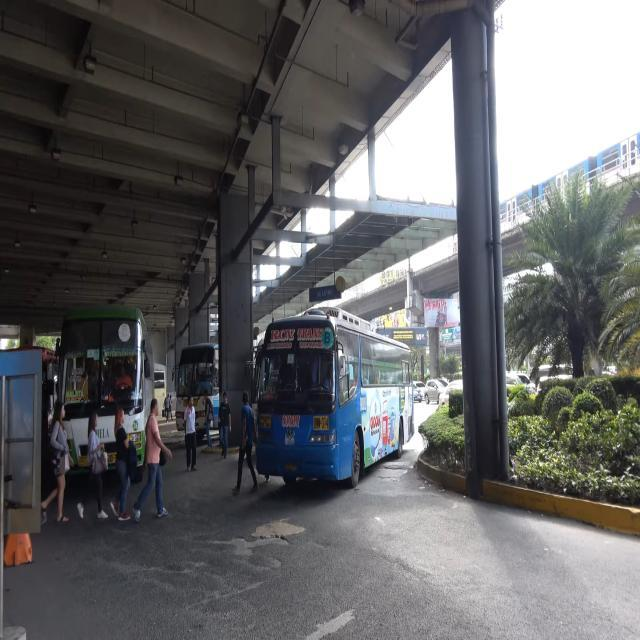bus: (254, 306, 415, 488), (59, 303, 154, 473), (174, 342, 221, 432)
